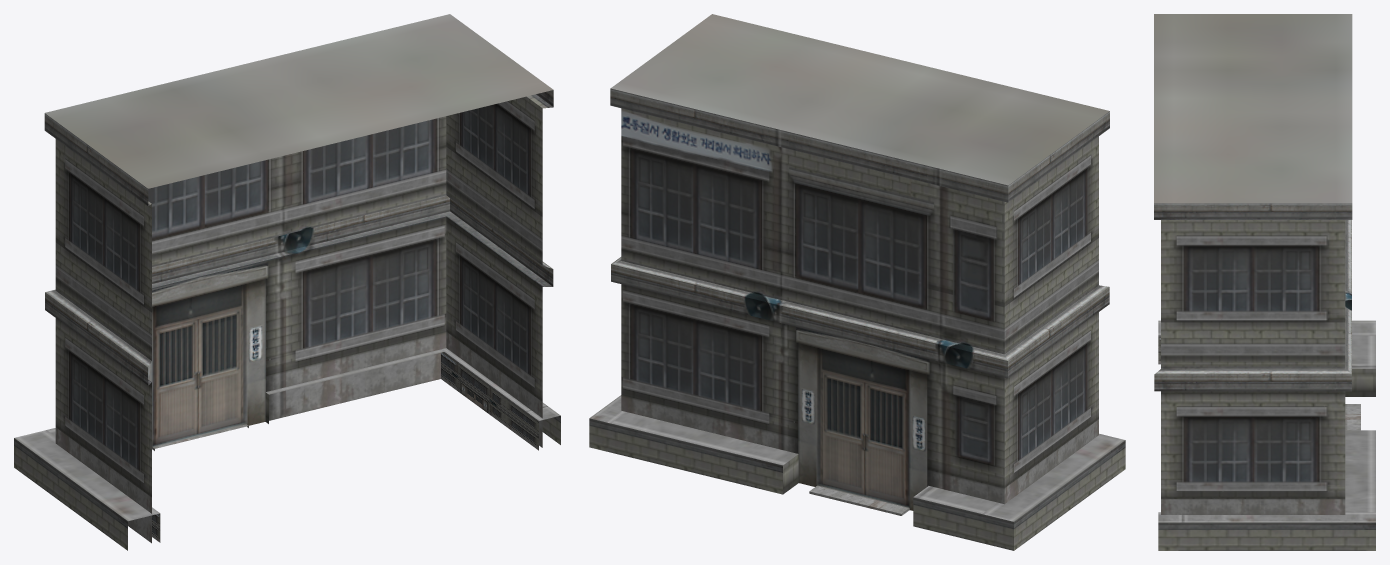
The model's file is police station.FBX.
3 renders of one model, left to right at view 1: azimuth 30°, elevation 25°; view 2: azimuth 150°, elevation 25°; view 3: azimuth 270°, elevation 25°, orthographic. The views are drawn at different scales.
Visible parts, largest first — view 1: Box003; view 2: Box003; view 3: Box003.
Part boxes in pixels (x1,y1,x2,y2): Box003: (14, 14, 560, 550); Box003: (589, 14, 1125, 550); Box003: (1154, 14, 1375, 550).
Bounding box in the file's own units: 121 × 95.61 × 55.96.
